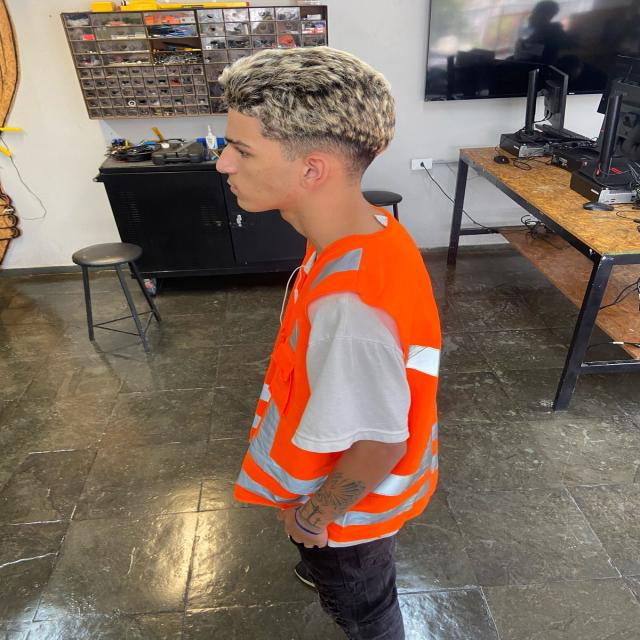COLETE: (229, 200, 447, 546)
SEM LUVA: (274, 502, 334, 552)
